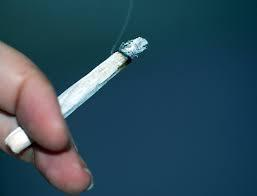smoke: (4, 36, 149, 155)
